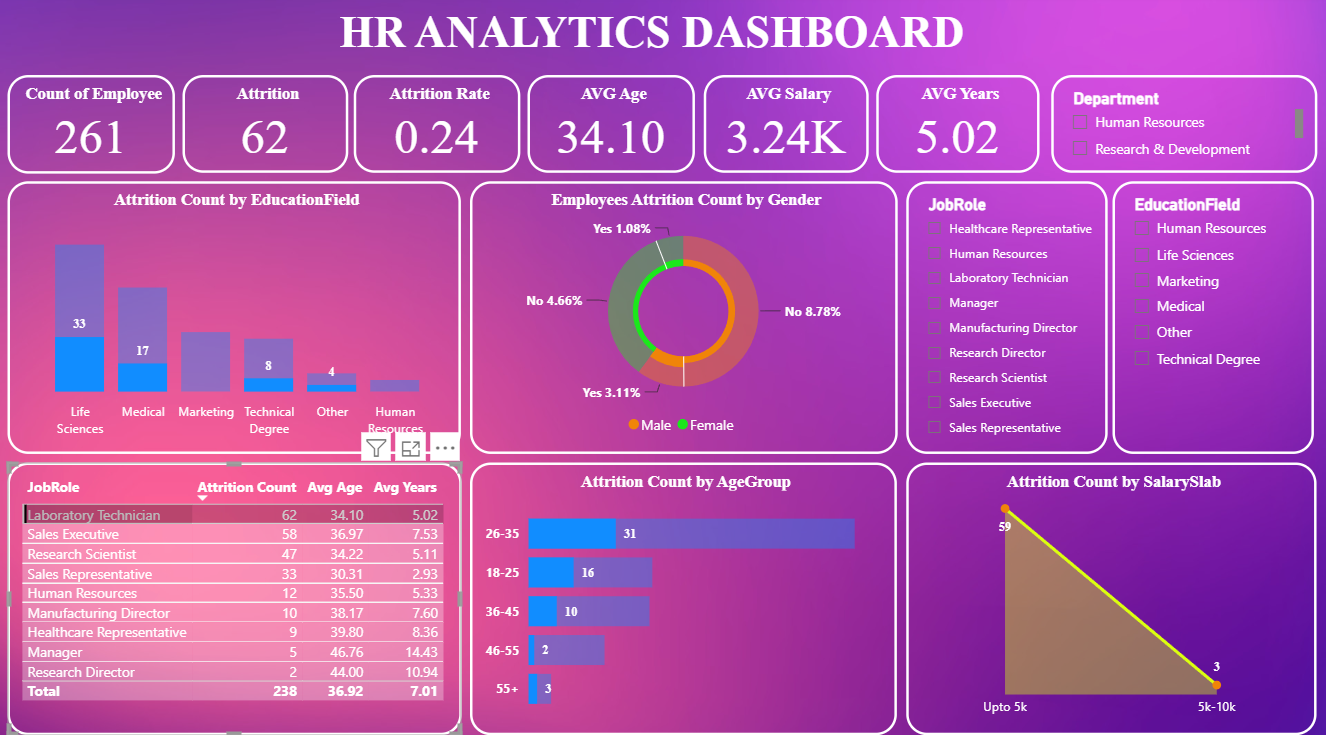

This screenshot's page, from the dashboard's own definition file:
{"tool":"powerbi","page":{"name":"Page 1","canvas":[1280,720],"ordinal":0},"visuals":[{"type":"textbox","box":[0,6.4,1258.2,62.7],"z":0},{"type":"card","title":"Count of  Employee","fields":{"Values":["HR_Analytics.Total Employees"]},"box":[6.7,76.7,161.7,95],"z":1000},{"type":"card","title":"Attrition","fields":{"Values":["HR_Analytics.Attrition Count"]},"box":[175.8,77.5,160,94.2],"z":2000},{"type":"card","title":"AVG Years","fields":{"Values":["HR_Analytics.Avg Years"]},"box":[845.8,77.5,157.5,94.2],"z":3000},{"type":"card","title":"AVG Salary","fields":{"Values":["HR_Analytics.Avg Salary"]},"box":[679.2,77.5,159.2,94.2],"z":4000},{"type":"card","title":"Attrition Rate","fields":{"Values":["HR_Analytics.Attrition Rate"]},"box":[341.7,77.5,160.8,94.2],"z":5000},{"type":"card","title":" AVG Age","fields":{"Values":["HR_Analytics.Avg Age"]},"box":[509.2,77.5,161.7,94.2],"z":6000},{"type":"columnChart","fields":{"Category":["HR_Analytics.EducationField"],"Y":["HR_Analytics.Attrition Count"]},"box":[6.7,180,437.5,263.3],"z":7000},{"type":"donutChart","title":"Employees Attrition Count by Gender","fields":{"Category":["HR_Analytics.Gender"],"Series":["HR_Analytics.Attrition"],"Y":["HR_Analytics.Total Employees"]},"box":[453.3,180,412.5,263.3],"z":8000},{"type":"clusteredBarChart","fields":{"Category":["HR_Analytics.AgeGroup"],"Y":["HR_Analytics.Attrition Count"]},"box":[454.2,450.8,411.7,263.3],"z":9000},{"type":"areaChart","fields":{"Category":["HR_Analytics.SalarySlab"],"Y":["HR_Analytics.Attrition Count"]},"box":[875,450.8,395.8,263.3],"z":10000},{"type":"tableEx","fields":{"Values":["HR_Analytics.JobRole","HR_Analytics.Attrition Count","HR_Analytics.Avg Age","HR_Analytics.Avg Years"]},"box":[7,451,438,263],"z":11000},{"type":"slicer","fields":{"Values":["HR_Analytics.Department"]},"box":[1014.2,77.5,256.7,94.2],"z":12000},{"type":"slicer","fields":{"Values":["HR_Analytics.JobRole"]},"box":[875,180,194.2,263.3],"z":13000},{"type":"slicer","fields":{"Values":["HR_Analytics.EducationField"]},"box":[1074.2,180,194.2,263.3],"z":14000}]}

Visuals, with their boxes in screenshot pixels (x1, y1, x2, y2), scaled from the page's 1280x720 canvas onto the 1326x735 screenshot:
textbox: 0 7 1303 71
"Count of  Employee" card: 7 78 174 175
"Attrition" card: 182 79 348 175
"AVG Years" card: 876 79 1039 175
"AVG Salary" card: 704 79 869 175
"Attrition Rate" card: 354 79 521 175
" AVG Age" card: 527 79 695 175
columnChart - HR_Analytics.EducationField x HR_Analytics.Attrition Count: 7 184 460 453
"Employees Attrition Count by Gender" donutChart: 470 184 897 453
clusteredBarChart - HR_Analytics.AgeGroup x HR_Analytics.Attrition Count: 471 460 897 729
areaChart - HR_Analytics.SalarySlab x HR_Analytics.Attrition Count: 906 460 1316 729
tableEx - HR_Analytics.JobRole x HR_Analytics.Attrition Count: 7 460 461 729
slicer - HR_Analytics.Department: 1051 79 1317 175
slicer - HR_Analytics.JobRole: 906 184 1108 453
slicer - HR_Analytics.EducationField: 1113 184 1314 453
